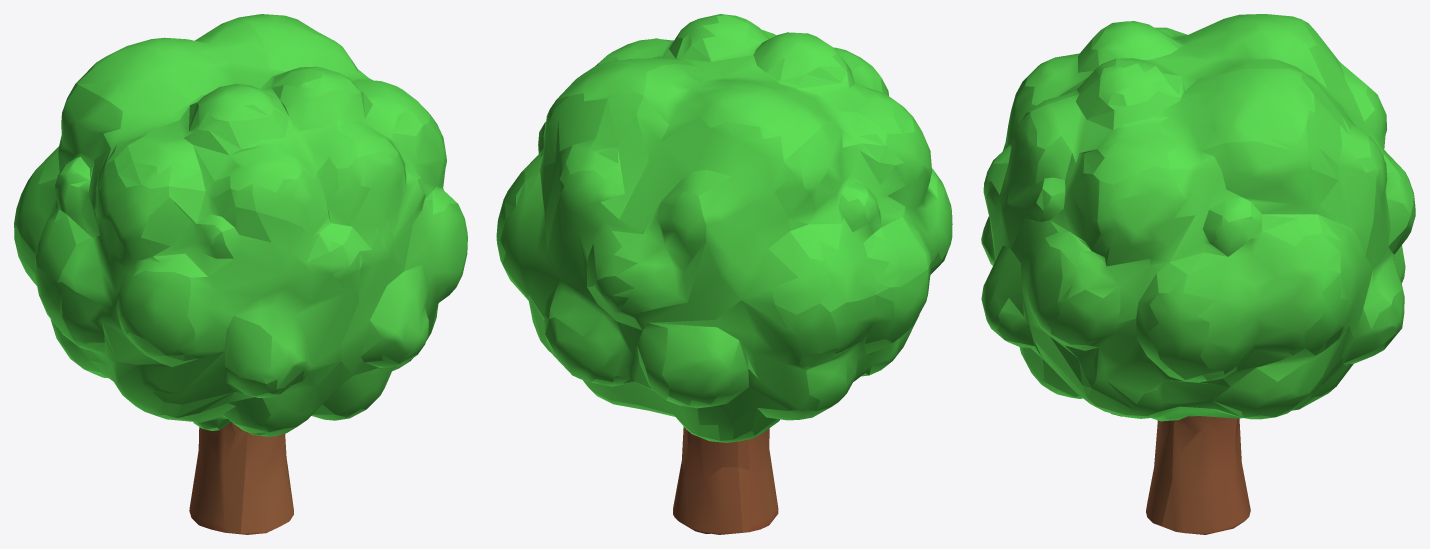
File: prop_tree.glb
3 renders of one model, left to right at view 1: azimuth 30°, elevation 25°; view 2: azimuth 150°, elevation 25°; view 3: azimuth 270°, elevation 25°, orthographic. The views are drawn at different scales.
Size of the model in its own units: 1.68 by 1.9 by 1.59.
1 material, 1 textured.
